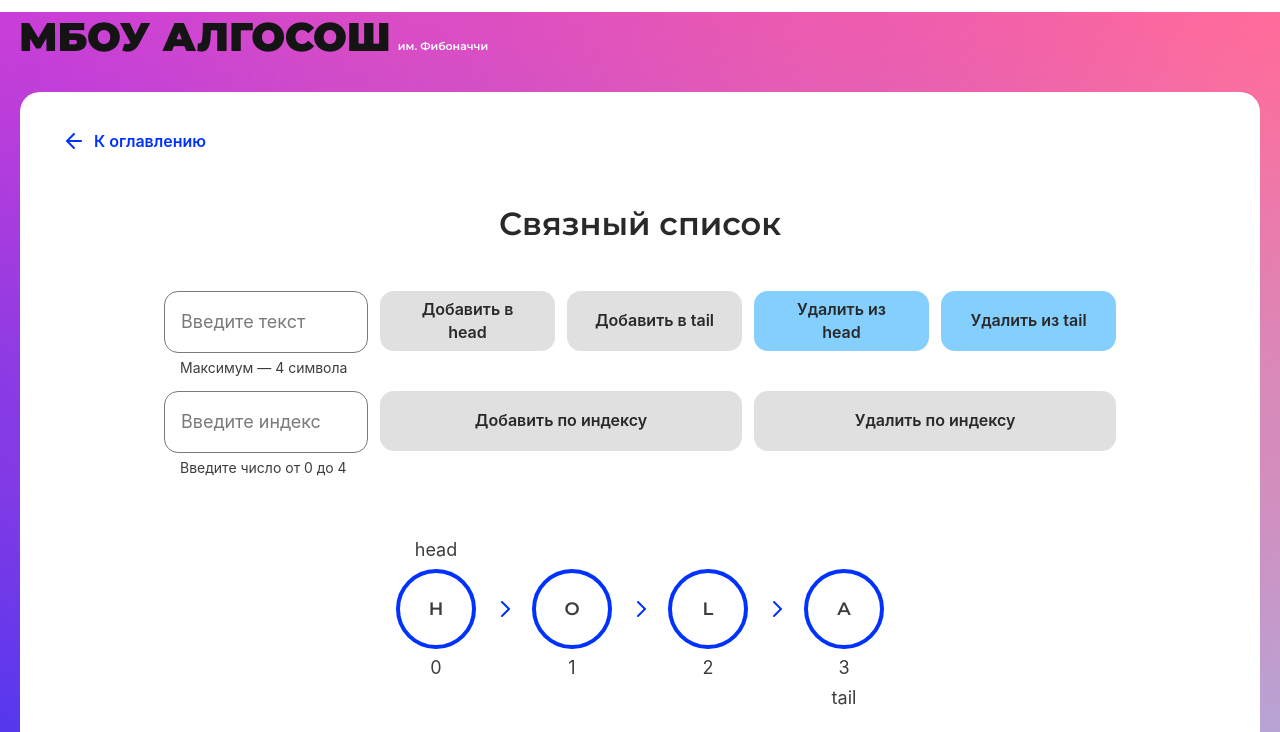
Scenario: List page › should visualize an element adding to a head correctly
Type "1" into the field with test id "value-input".
click(266, 322); type("1")  # box [164,291,368,353]
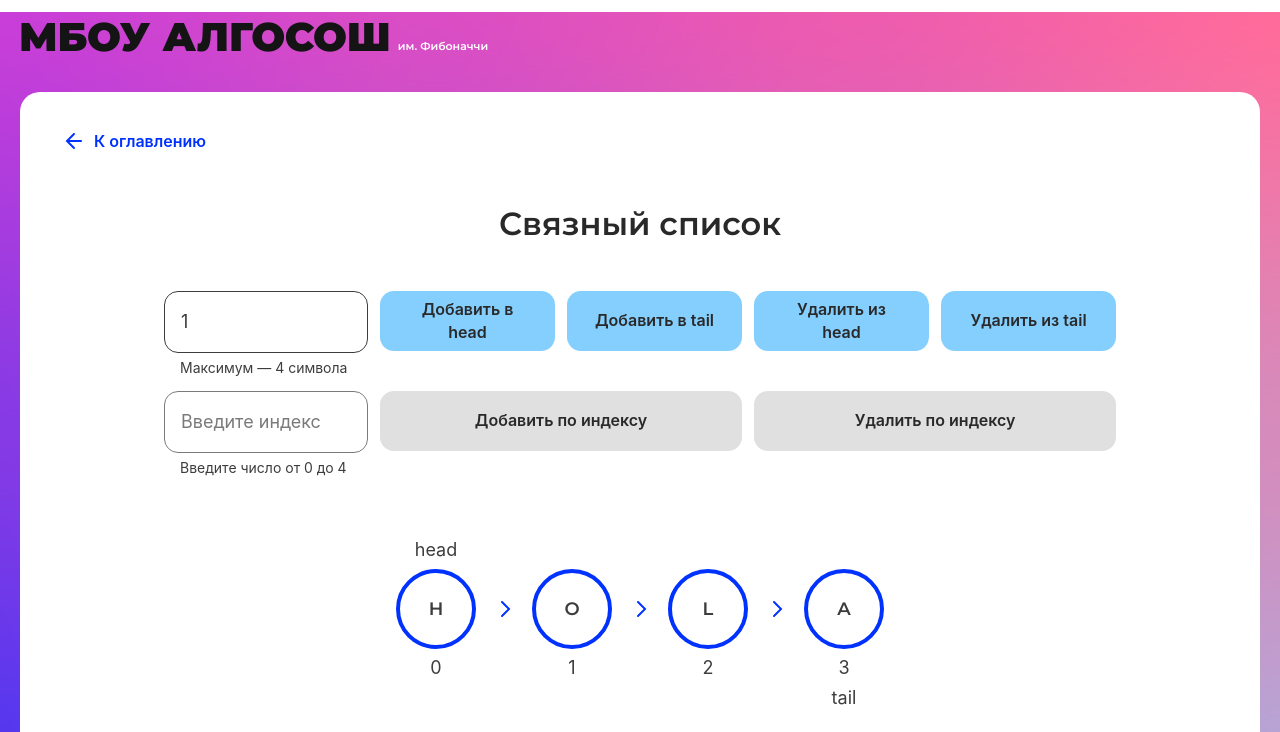
Click the button with test id "add-head-button".
click(468, 321)  # box [380,291,555,351]
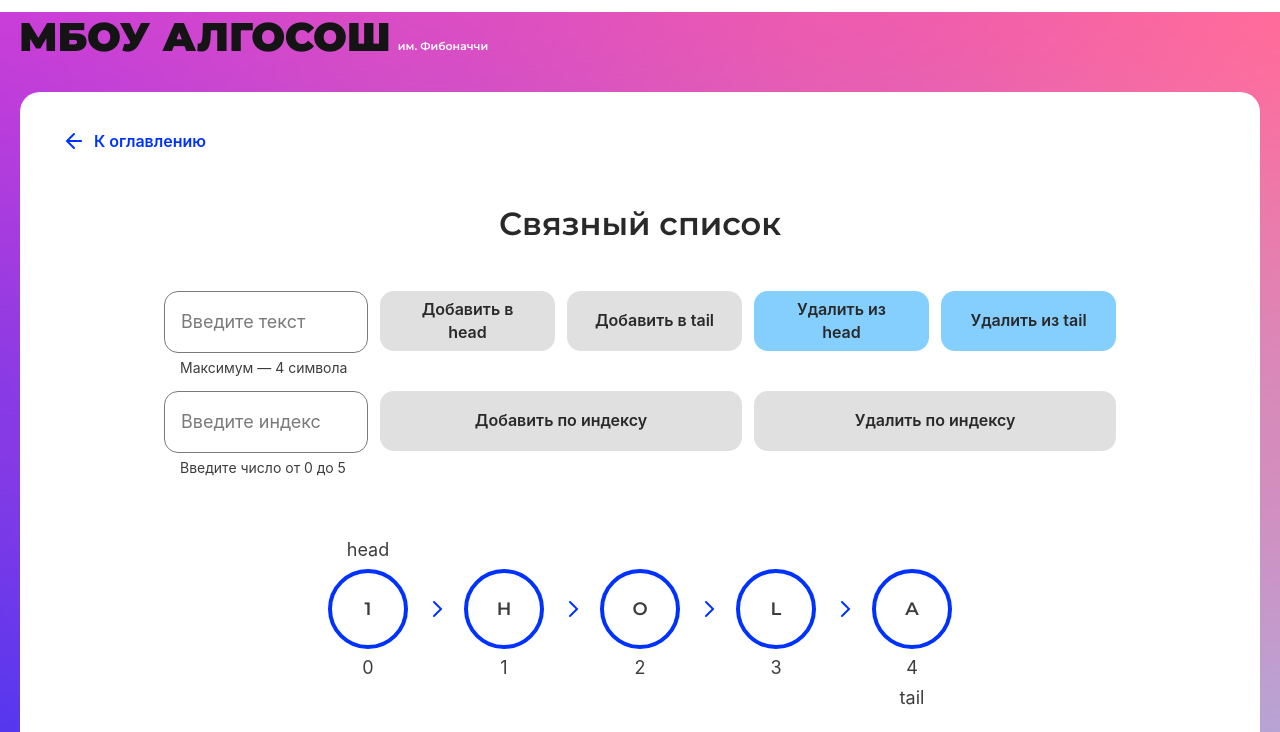
Expected: the text with test id "head" reads "head", [347,539,389,560]
Expected: the number of elements with test id "circle-core" is 5
